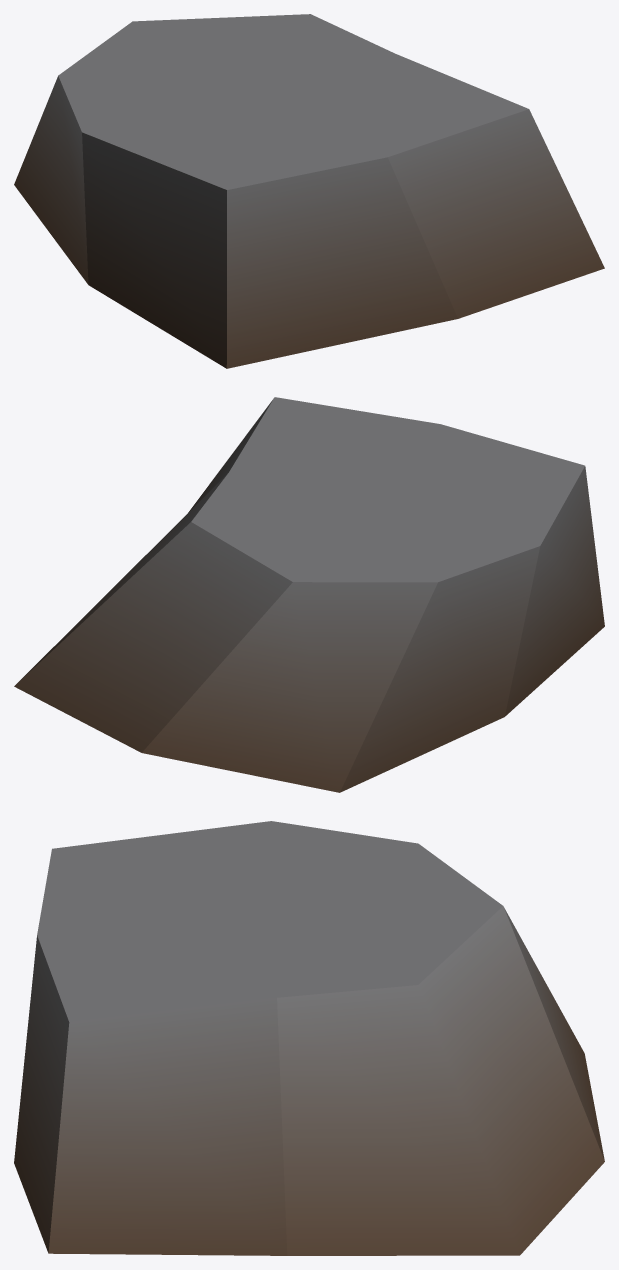
The picture shows the model from 3 angles, top to bottom: view 1: azimuth 30°, elevation 25°; view 2: azimuth 150°, elevation 25°; view 3: azimuth 270°, elevation 25°; orthographic projection. The views are drawn at different scales.
Parts seen in each view (by area): view 1: Cube.007; view 2: Cube.007; view 3: Cube.007.
Boxes of the visible parts, x1,y1,x2,y2 form: Cube.007: (14, 14, 604, 368); Cube.007: (14, 397, 604, 792); Cube.007: (14, 821, 604, 1255).
Bounding box in the file's own units: 1.63 × 0.6141 × 1.69.
